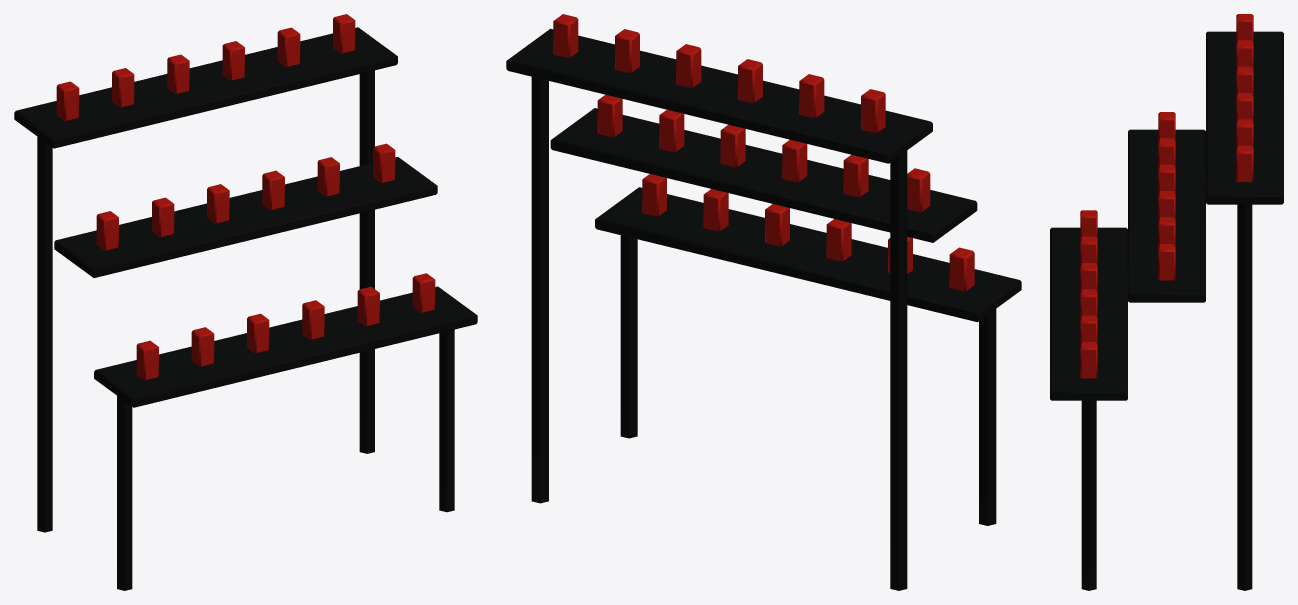
File: hz-candle-rack.glb
The picture shows the model from 3 angles, left to right: view 1: azimuth 30°, elevation 25°; view 2: azimuth 150°, elevation 25°; view 3: azimuth 270°, elevation 25°; orthographic projection. The views are drawn at different scales.
Parts seen in each view (by area): view 1: frame__metal, candles__paint; view 2: frame__metal, candles__paint; view 3: frame__metal, candles__paint.
Part boxes in pixels (<box>): frame__metal: <box>14,27,477,590</box>; candles__paint: <box>56,14,435,380</box>; frame__metal: <box>506,28,1021,590</box>; candles__paint: <box>553,14,974,291</box>; frame__metal: <box>1050,31,1283,590</box>; candles__paint: <box>1080,14,1253,378</box>.
Bounding box in the file's own units: 0.9 × 1.09 × 0.54.
